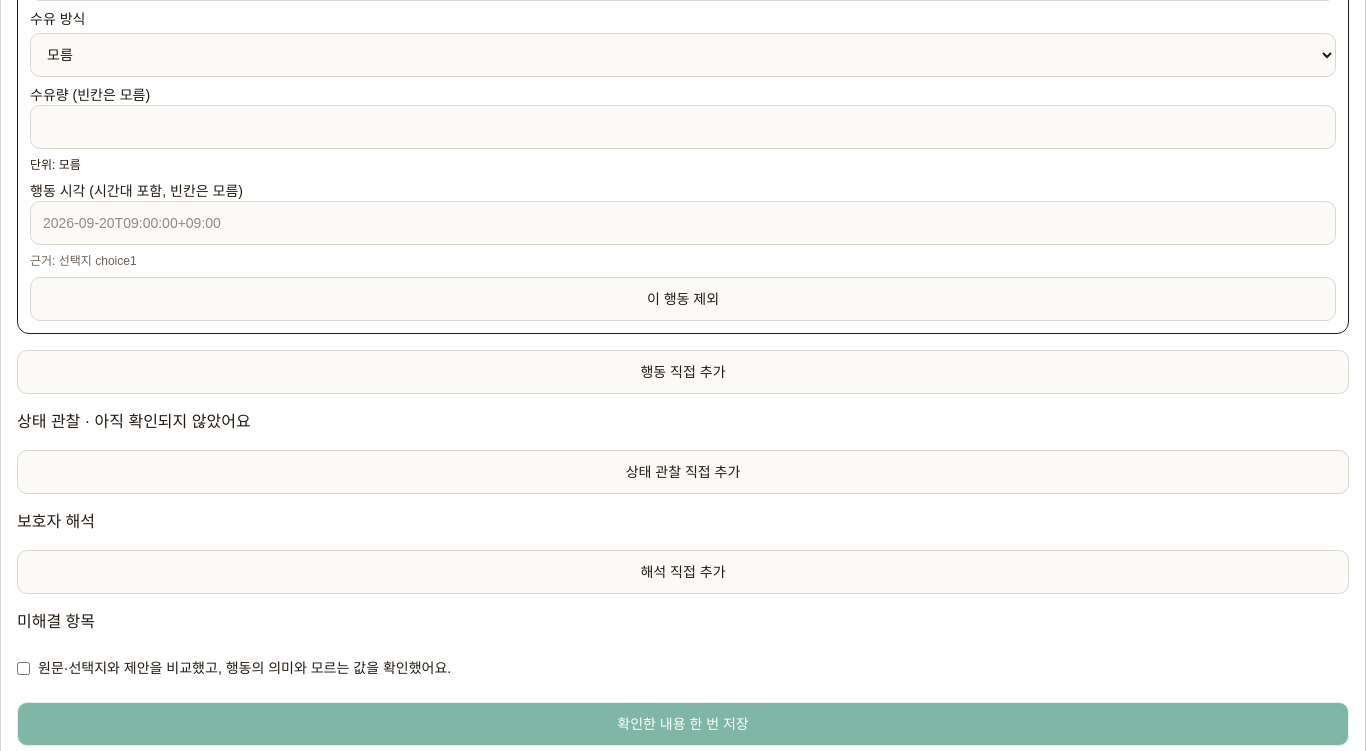
Scenario: A-07 review UI › editing a proposal removes prior explicit confirmation and shows field errors beside its card
(page scrolled)
Click the checkbox. click: (24, 668)
box: [17,662,30,674]
(page scrolled)
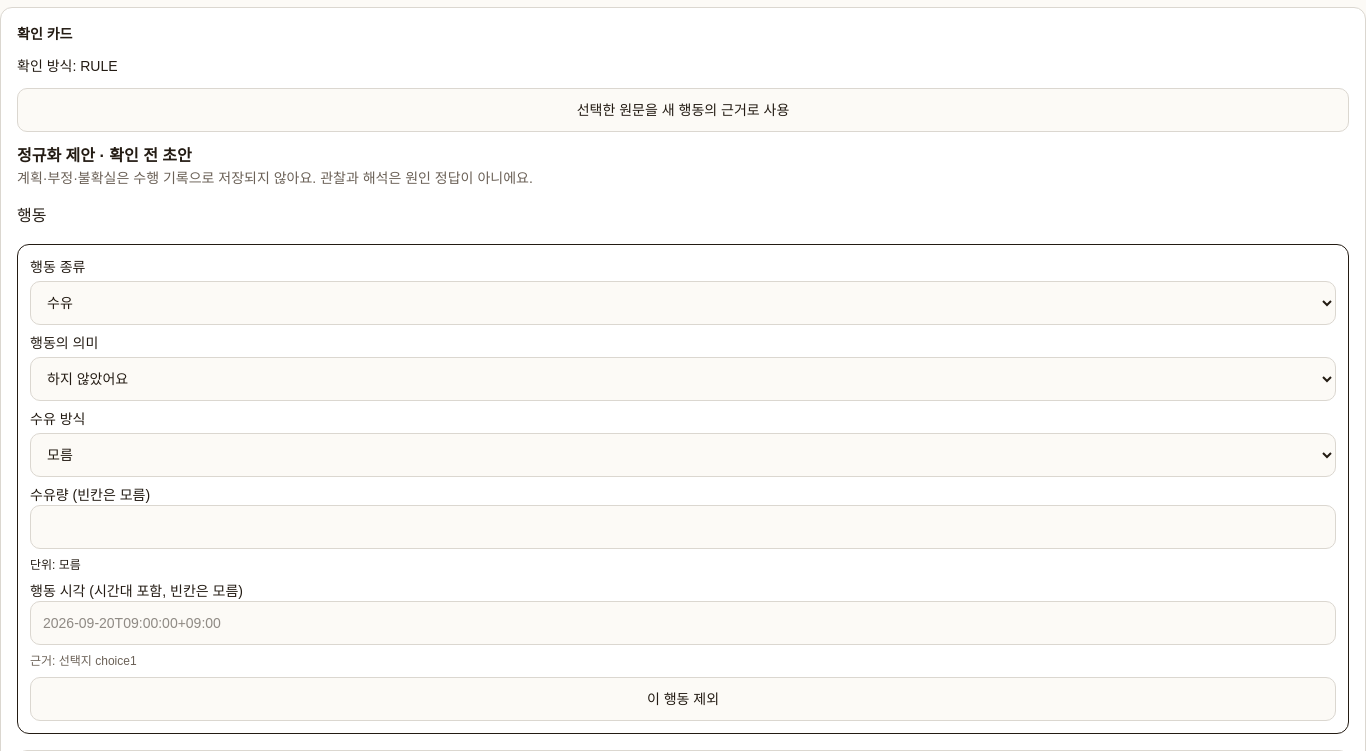
Select "계획이에요" in the dropdown labelled "행동의 의미". click: (683, 379)
box: [30,357,1336,401]
(page scrolled)
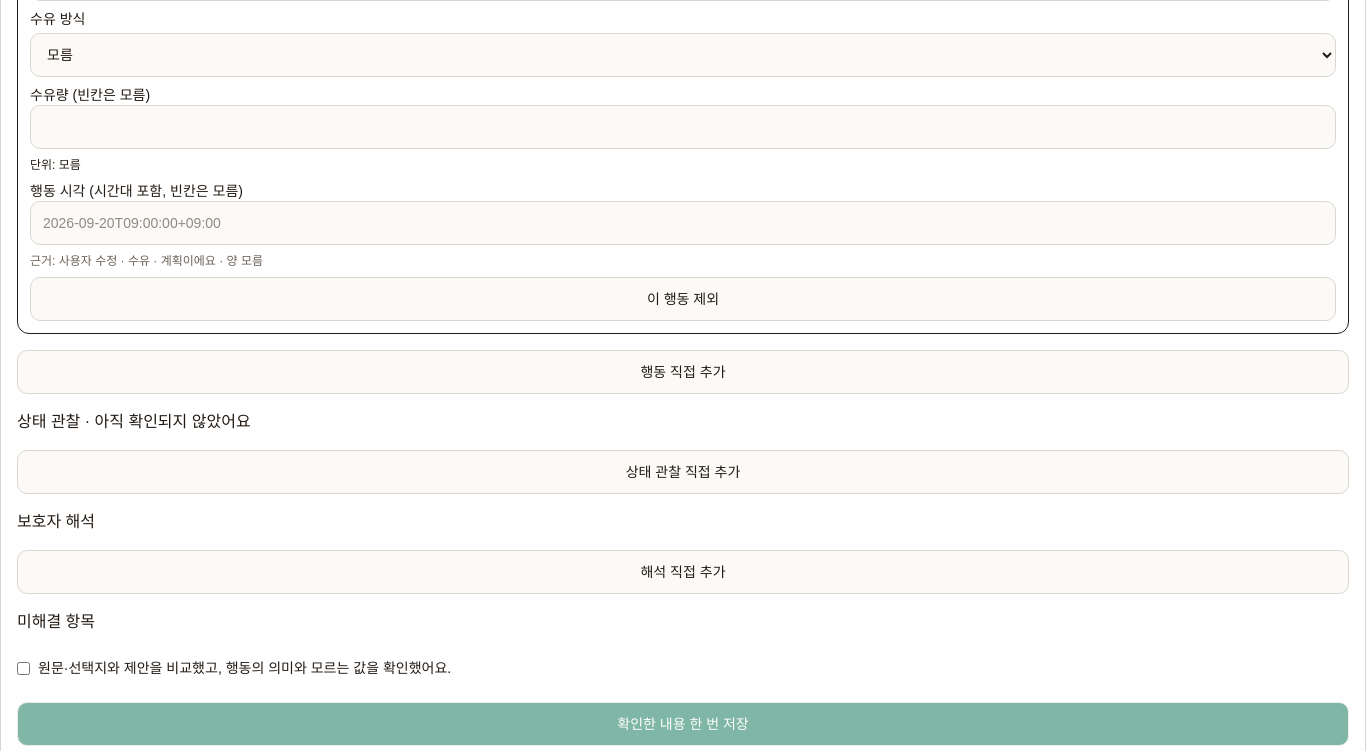
Now the checkbox is not checked
Click the checkbox. click: (24, 668)
box: [17,662,30,674]
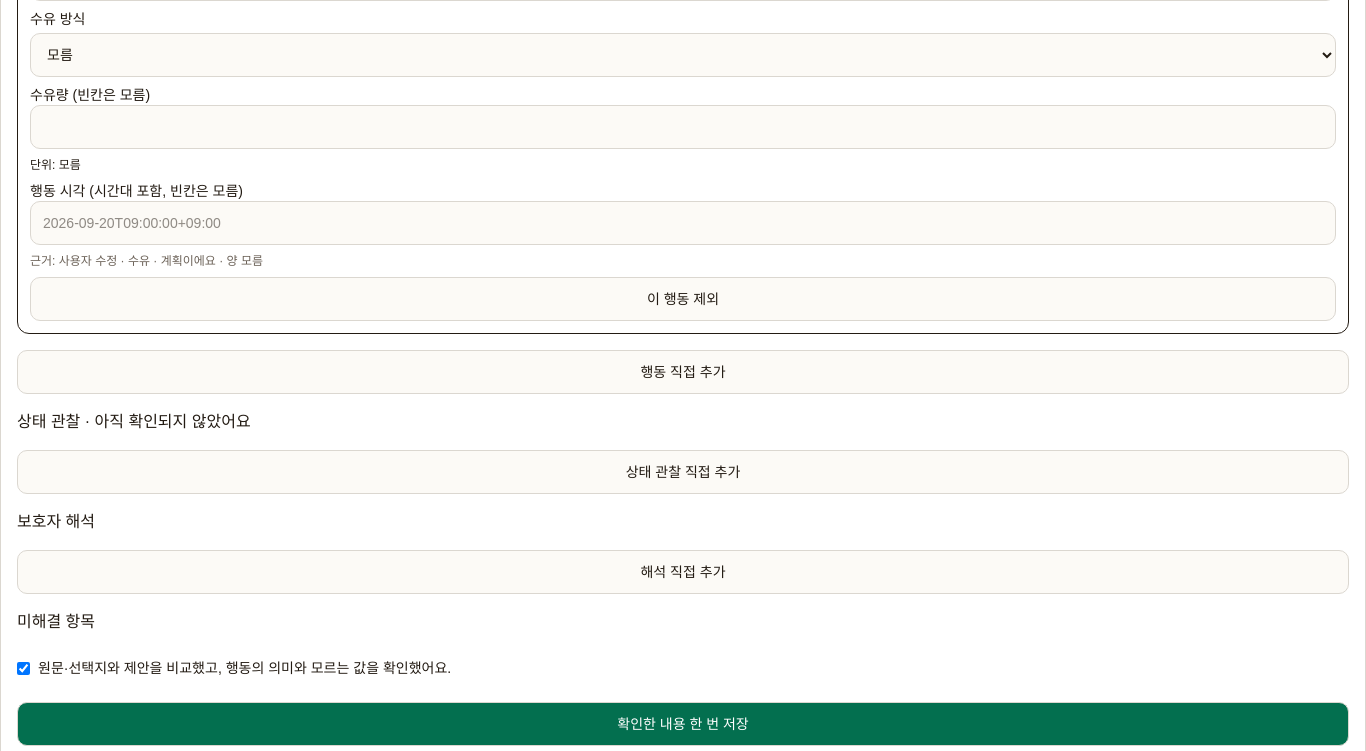
Click the button "확인한 내용 한 번 저장". click: (683, 724)
box: [17,702,1349,746]
(page scrolled)
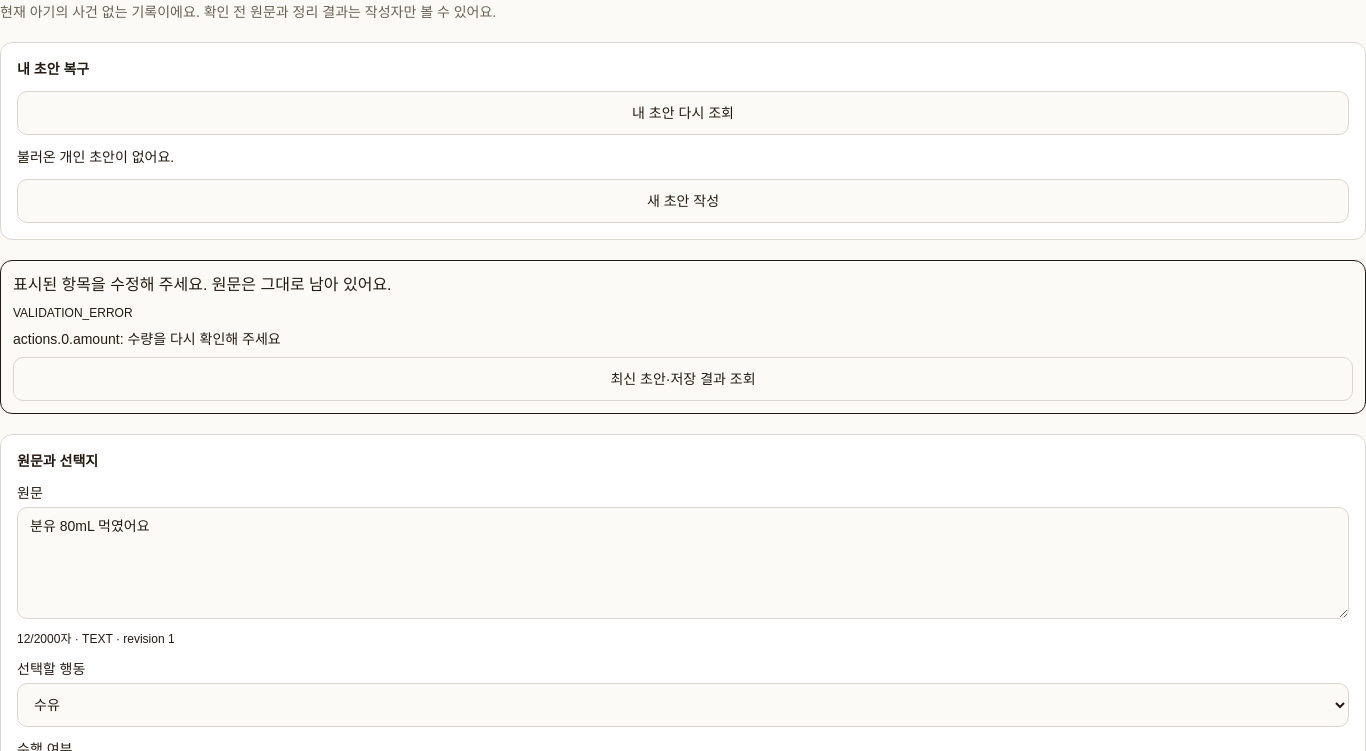
Expected: the text box labelled "원문" holds "분유 80mL 먹였어요", [17,507,1349,619]
Now the button "최신 초안·저장 결과 조회" is shown, box [13,357,1353,401]
